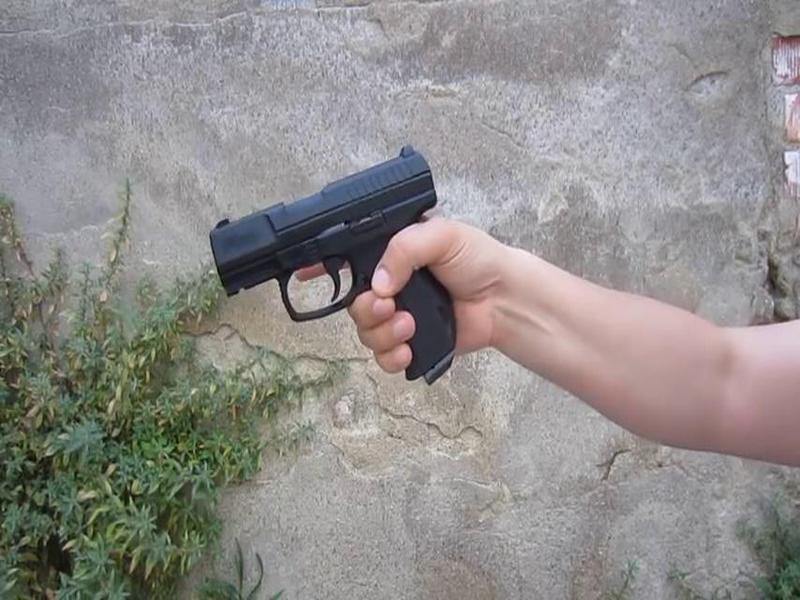Pistola: (203, 134, 471, 386)
